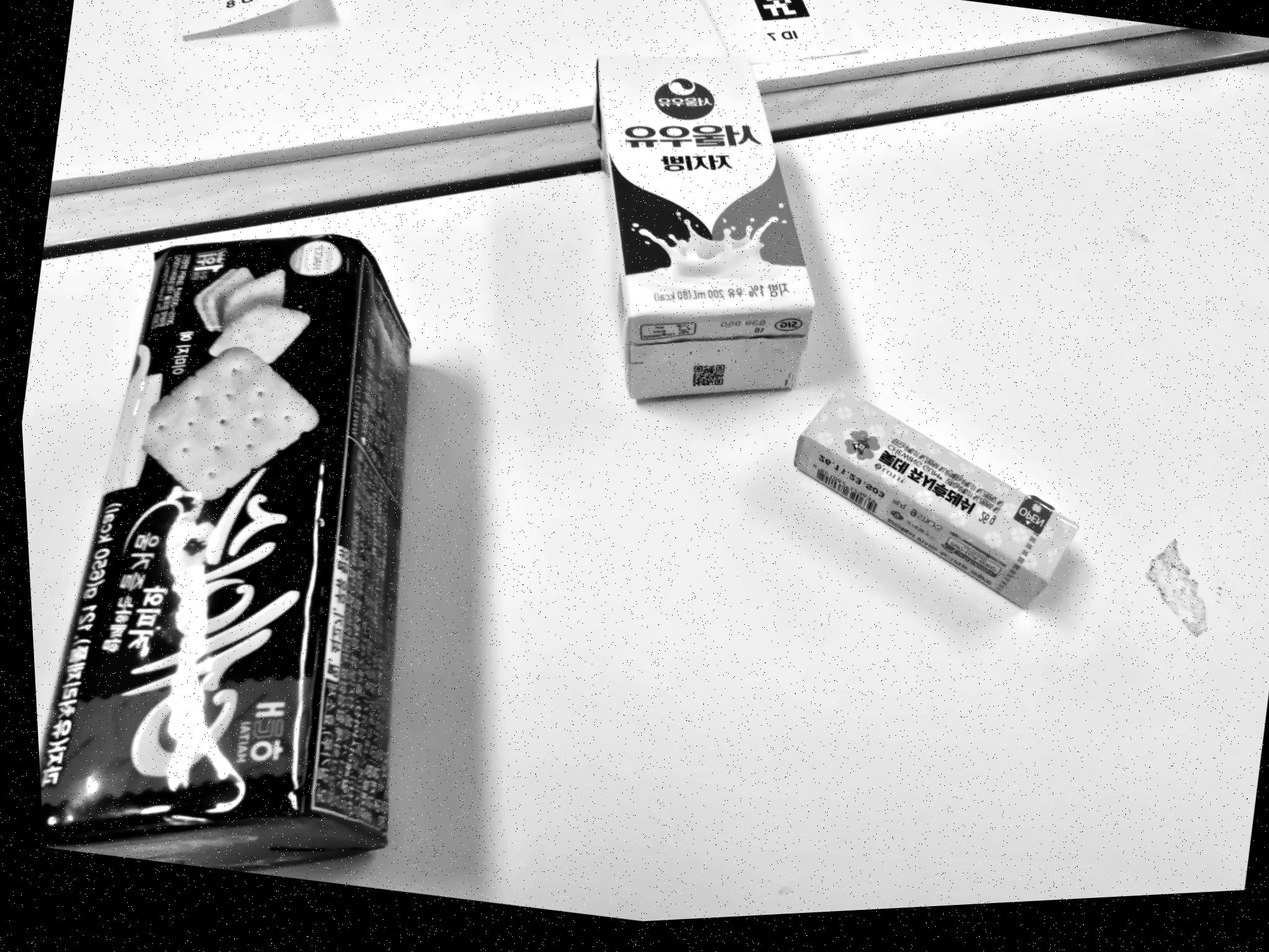cracker_ace: (39, 236, 410, 869)
gum_yellow: (794, 388, 1078, 608)
milk_blue: (594, 57, 814, 399)
